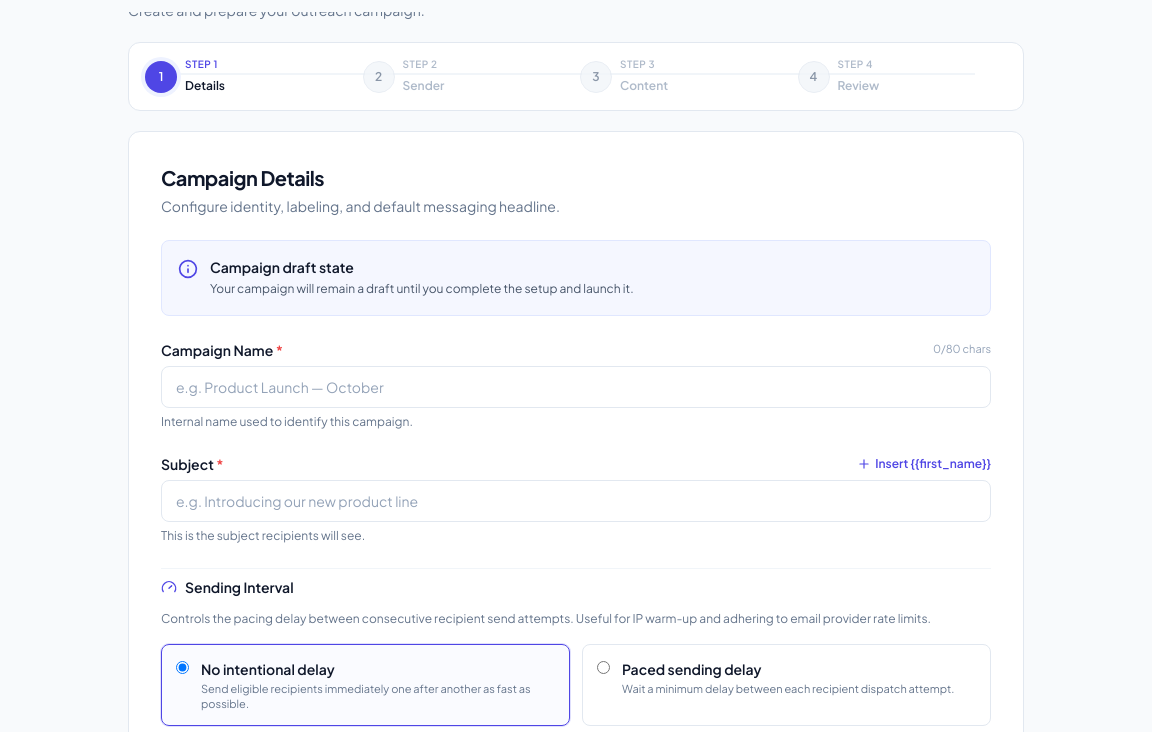
Scenario: C12.2 Create Campaign Wizard Components › 9. CreateCampaignPage Render Lifecycle & Regression (No Loops) › initializes sender selection deterministically once without repeated state updates
(page scrolled)
Note: Enter required Step 1 fields
Type "Product Launch" into the field with placeholder "e.g. Product Launch — October".
click(576, 386); type("Product Launch")  # box [161,366,991,408]
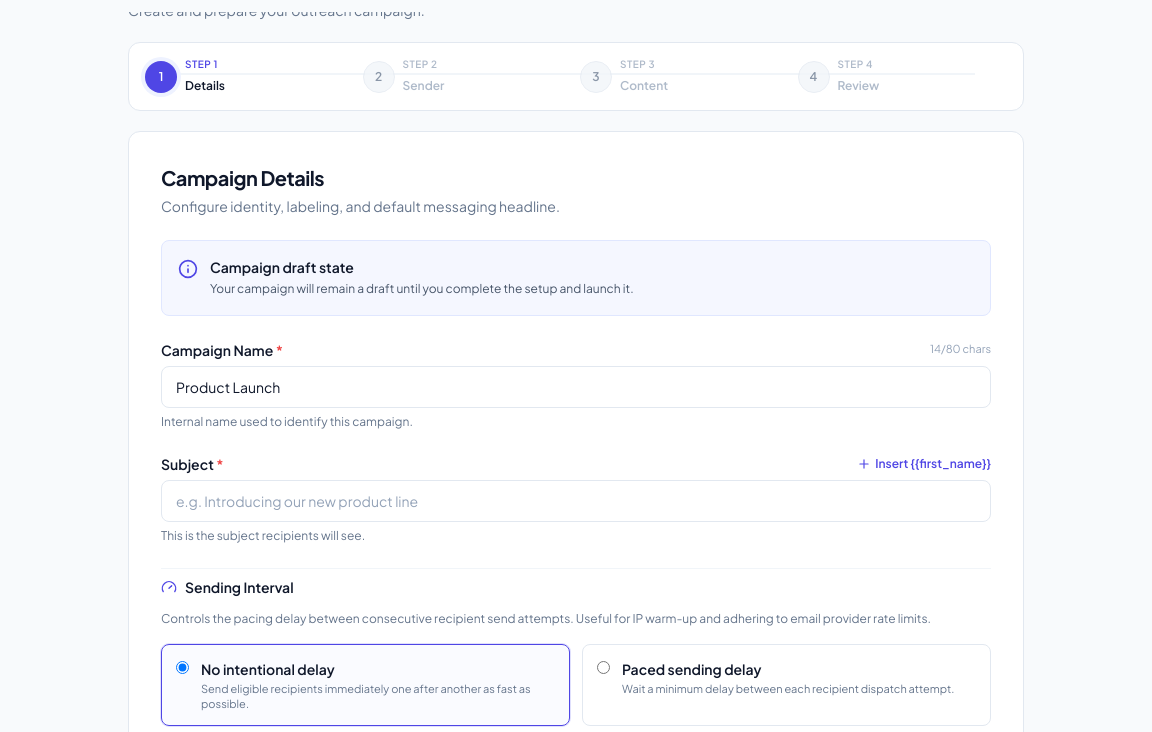
Type "Special Invitation" into the field with placeholder "e.g. Introducing our new product line".
click(576, 500); type("Special Invitation")  # box [161,480,991,522]
(page scrolled)
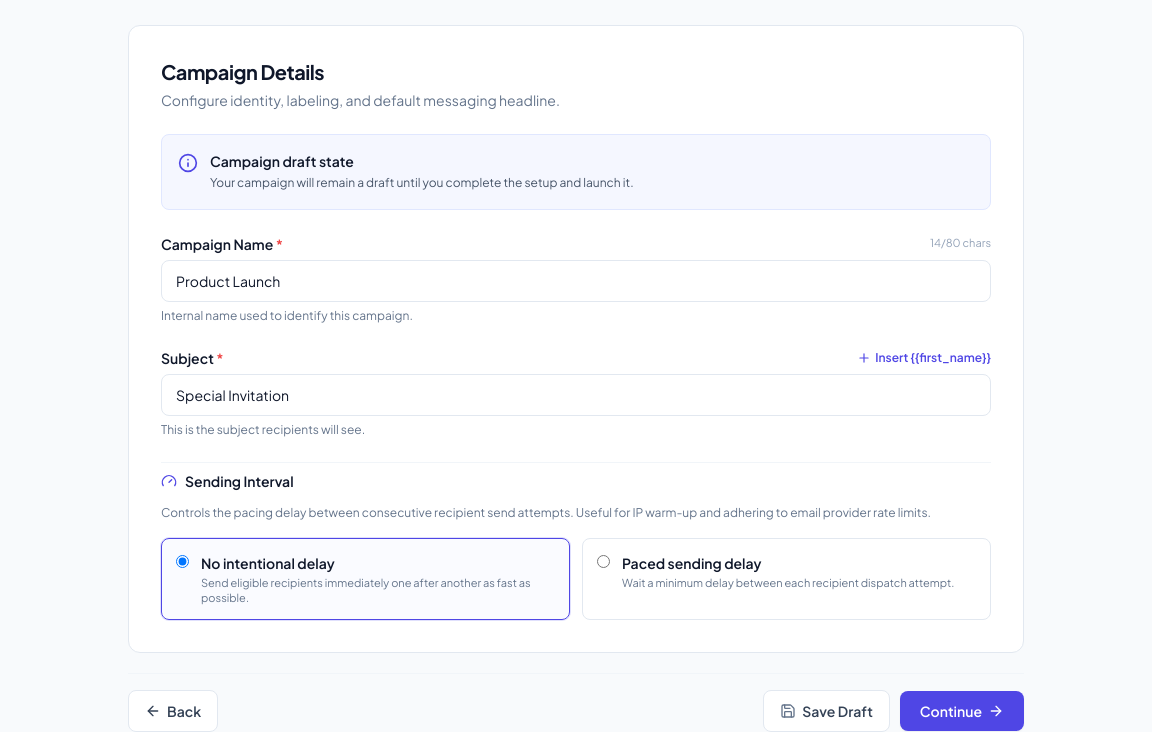
Note: Advance to Step 2
Click the button "Continue".
click(962, 711)  # box [900,691,1024,731]
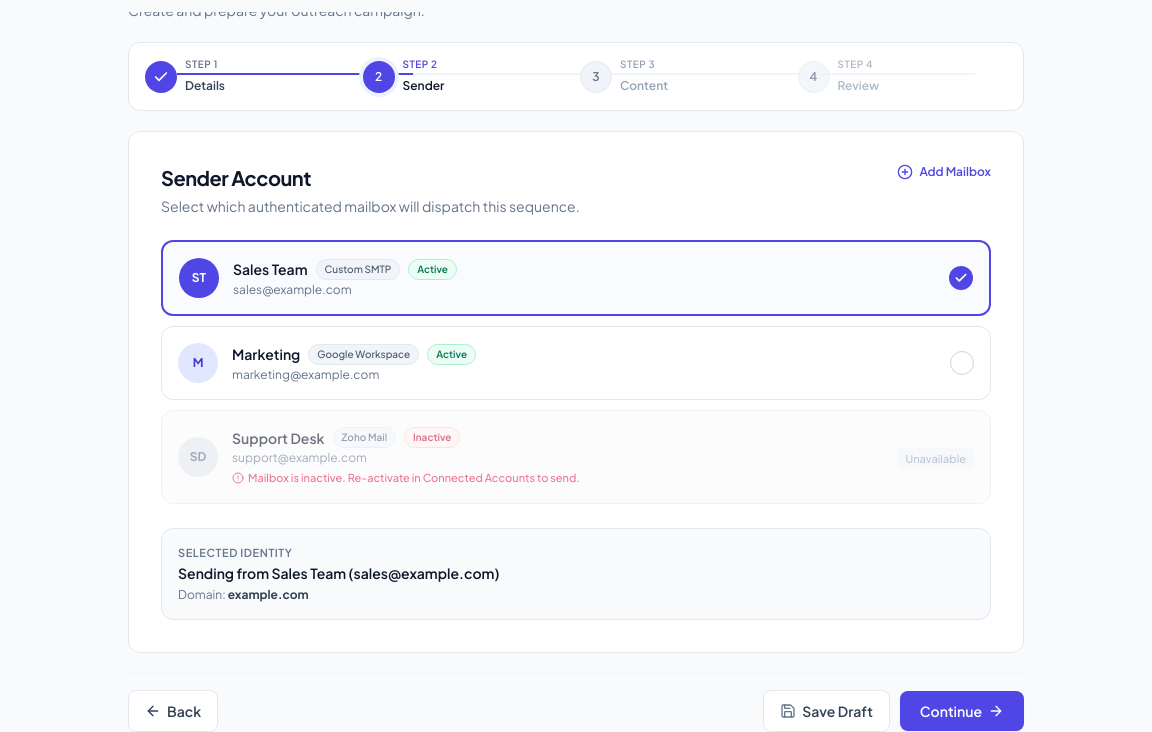
Expected: the text "Sending from Sales Team (sales@example.com)" is shown, [178,563,499,583]
